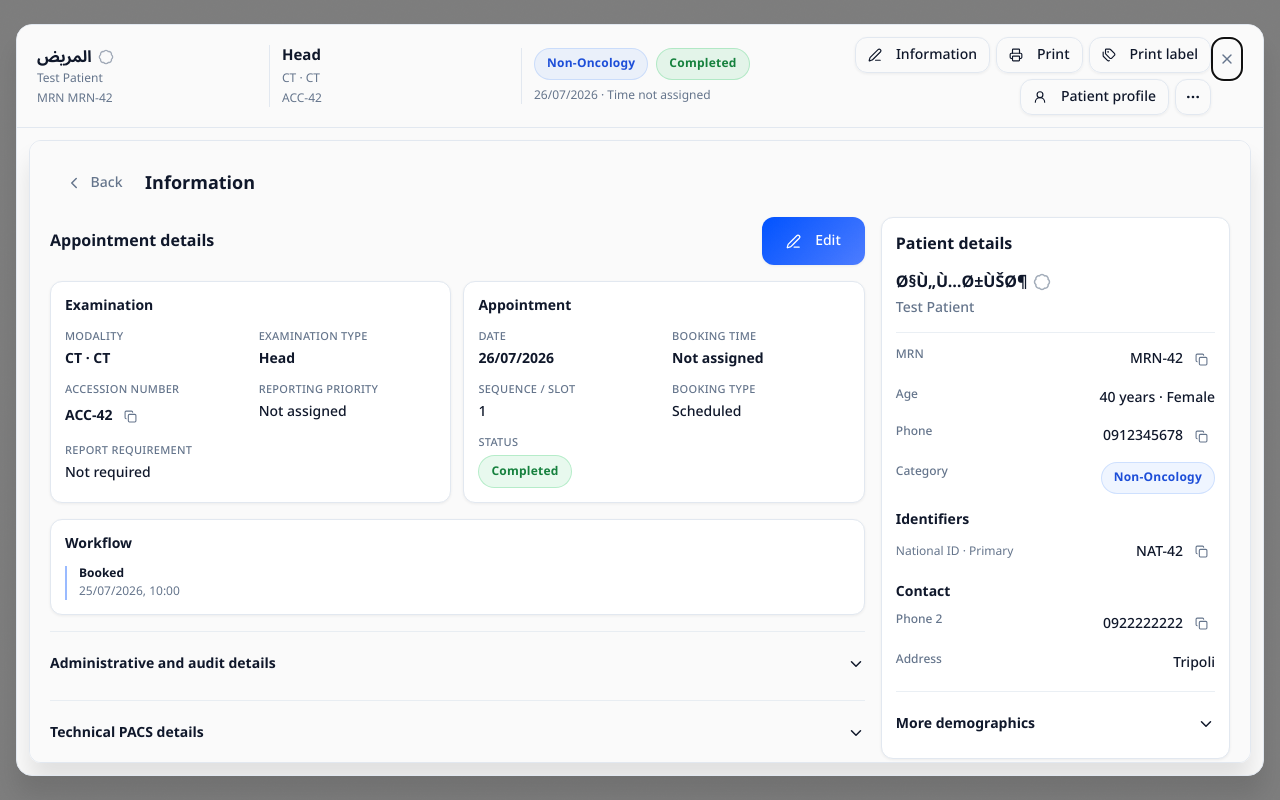
Scenario: AppointmentManageModal › does not expose ordinary reschedule or cancellation actions for completed appointments
Expected: the heading "Appointment details" is shown, [50, 229, 214, 253]
Click the button named "More actions".
click(1193, 97)  # box [1175, 79, 1211, 115]
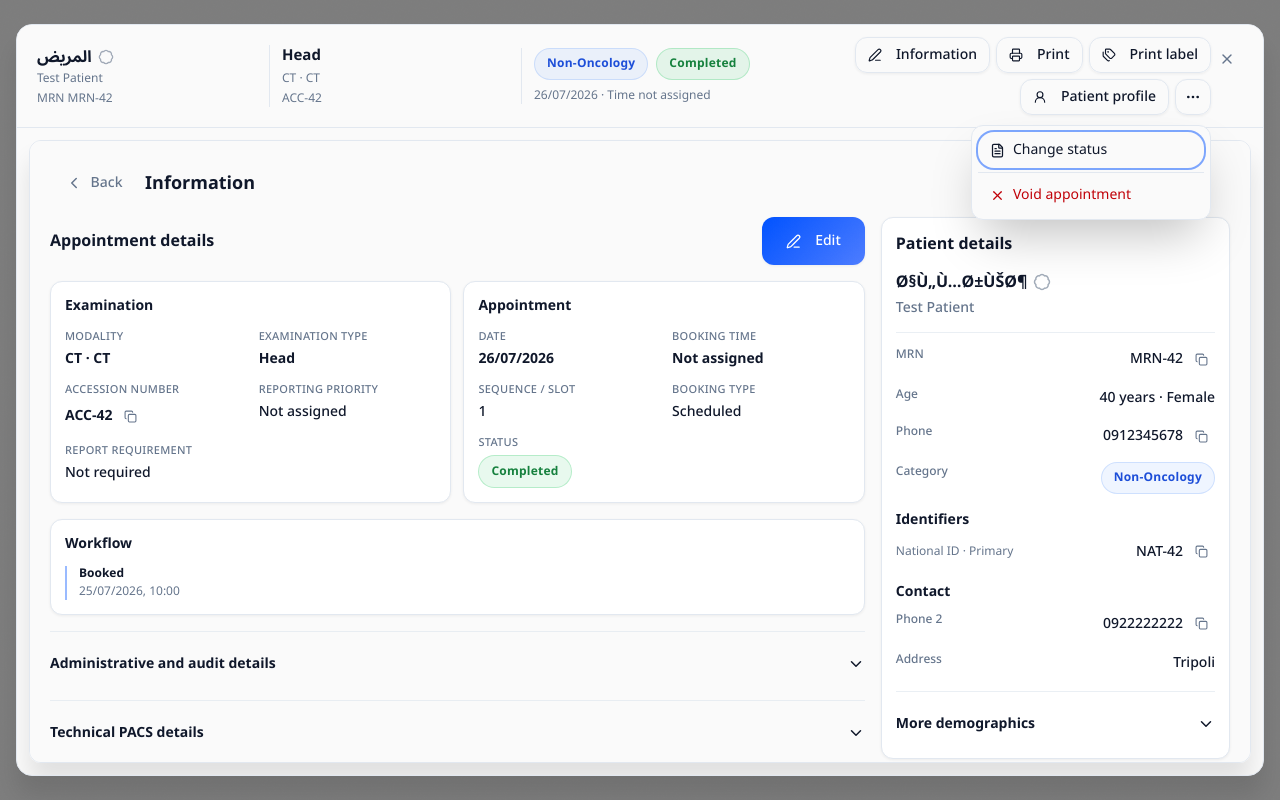
Result: the menu item "Change status" is shown at [978, 132, 1204, 168]
